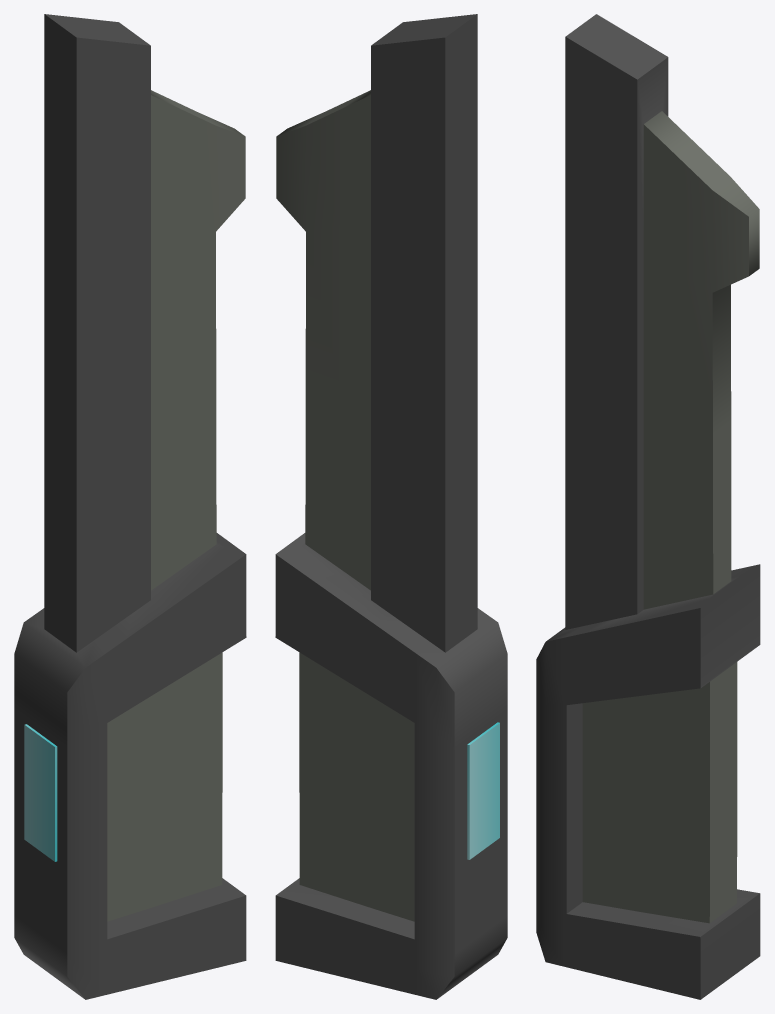
The model's file is skyscraper_03.fbx.
3 renders of one model, left to right at view 1: azimuth 30°, elevation 25°; view 2: azimuth 150°, elevation 25°; view 3: azimuth 330°, elevation 25°, orthographic. The views are drawn at different scales.
Visible parts, largest first — view 1: Skyscraper_03.1, Skyscraper_03.2; view 2: Skyscraper_03.1, Skyscraper_03.2; view 3: Skyscraper_03.1.
Boxes of the visible parts, bbox=[...] form: Skyscraper_03.1: bbox=[14, 14, 246, 999]; Skyscraper_03.2: bbox=[24, 724, 57, 861]; Skyscraper_03.1: bbox=[275, 14, 507, 999]; Skyscraper_03.2: bbox=[467, 722, 499, 859]; Skyscraper_03.1: bbox=[536, 14, 760, 999].
Size of the model in its own units: 1544 by 6943 by 820.
